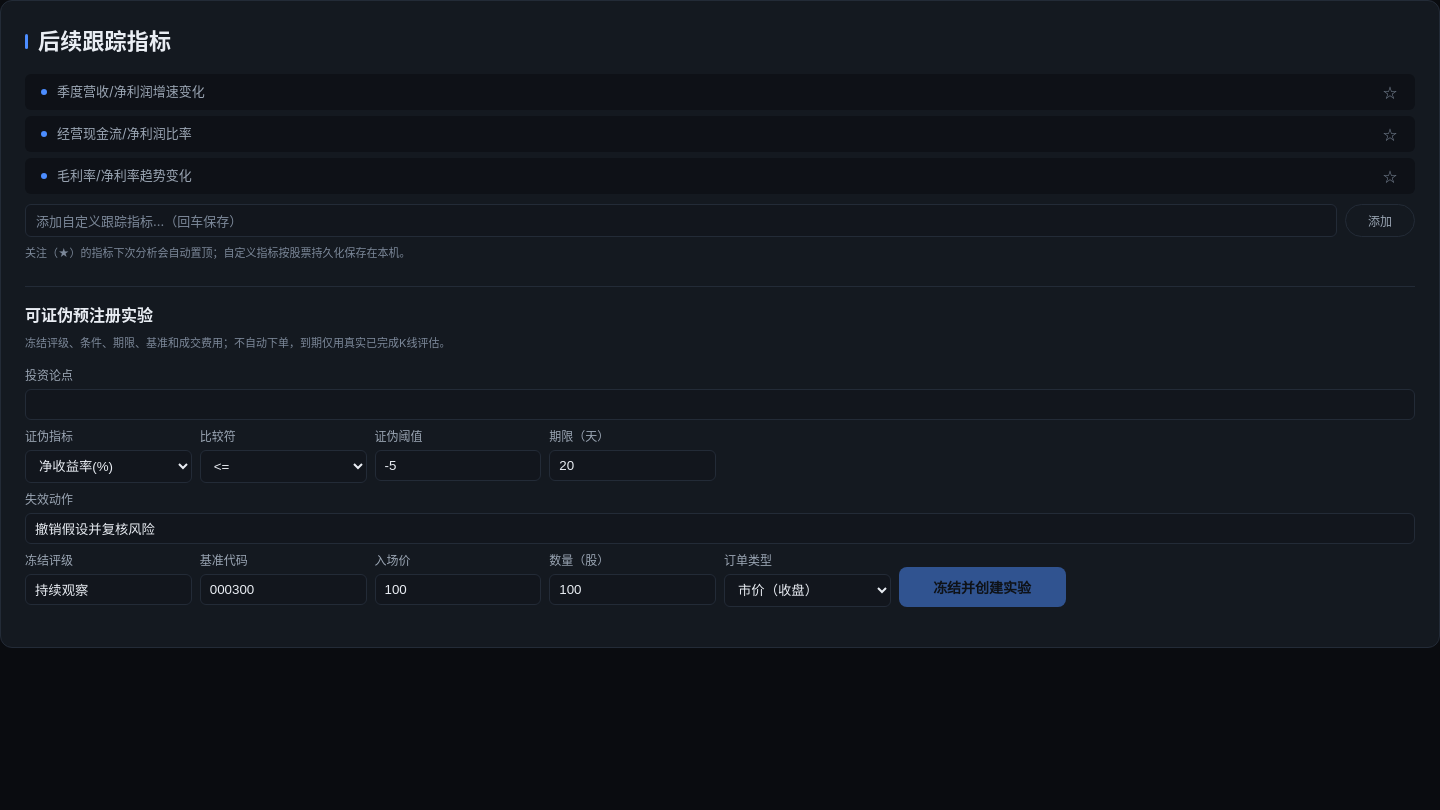
FollowUpSection 后续跟踪指标 › 创建预注册时提交完整冻结口径并展示 active
In the field labelled "投资论点": (720, 404) [25,389,1415,420], type "跌破证伪线则撤销"
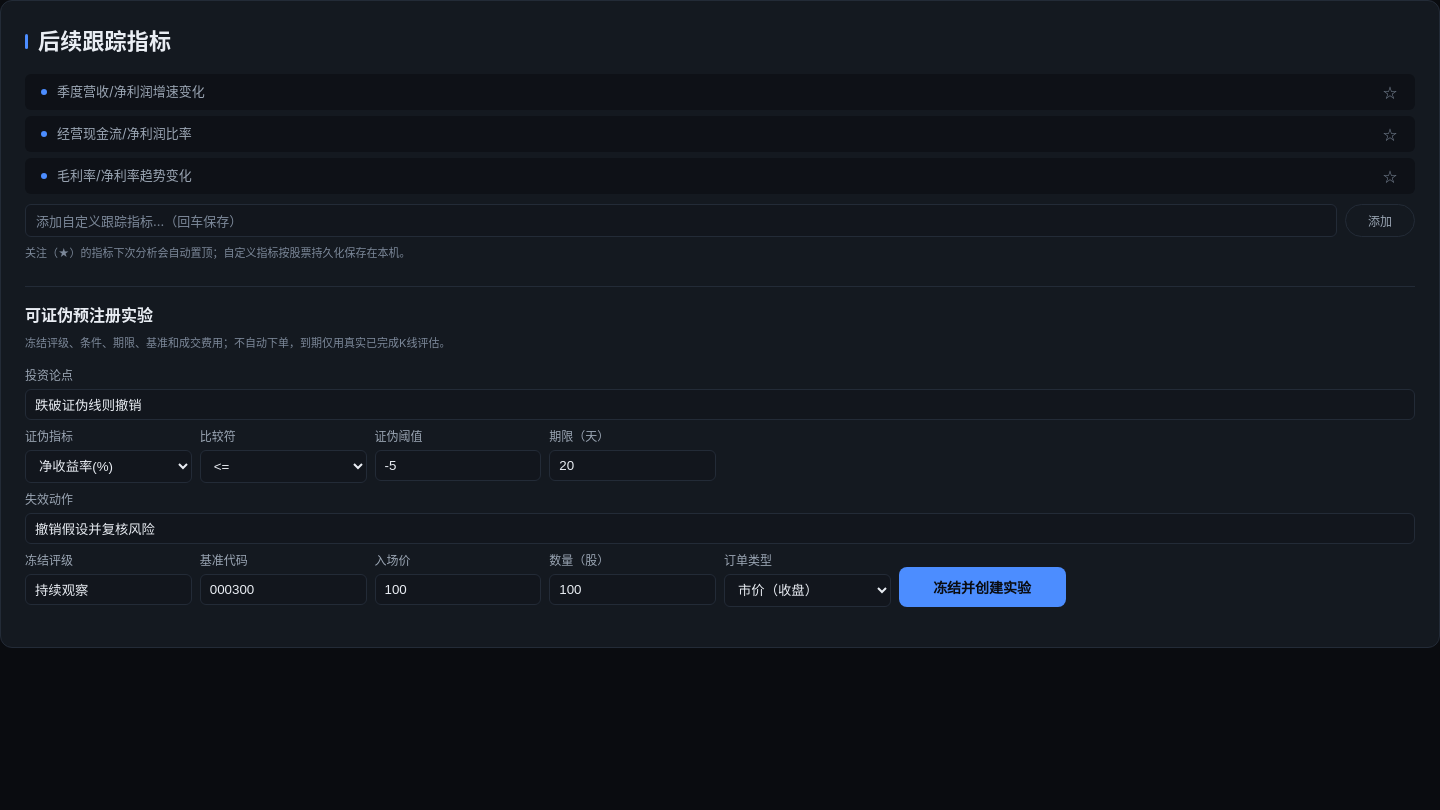
Click the button "冻结并创建实验": (982, 587) [899,567,1066,607]
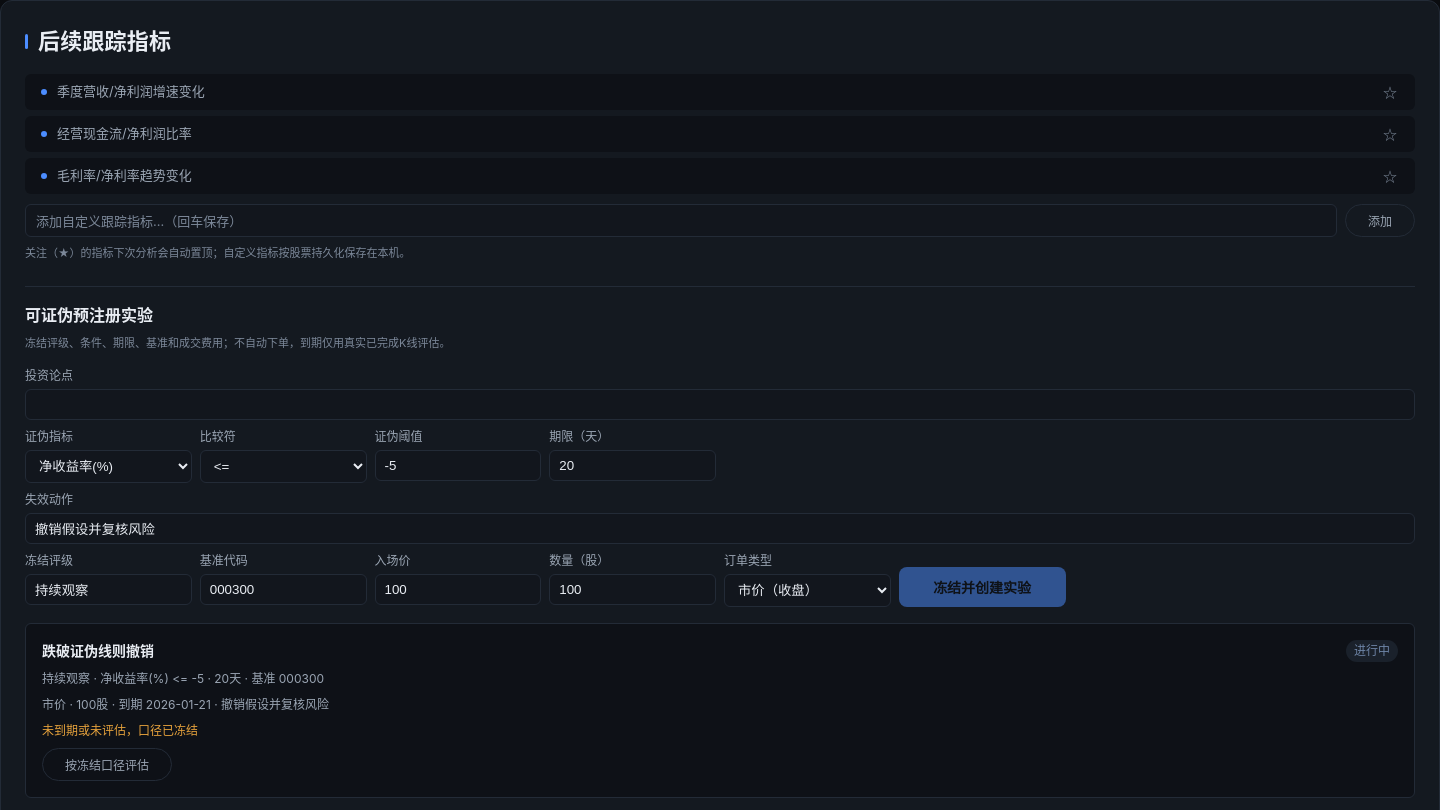
Expected: the text "进行中" is shown, [1346,640,1398,662]
Expected: the text "未到期或未评估，口径已冻结" is shown, [42,723,198,738]
